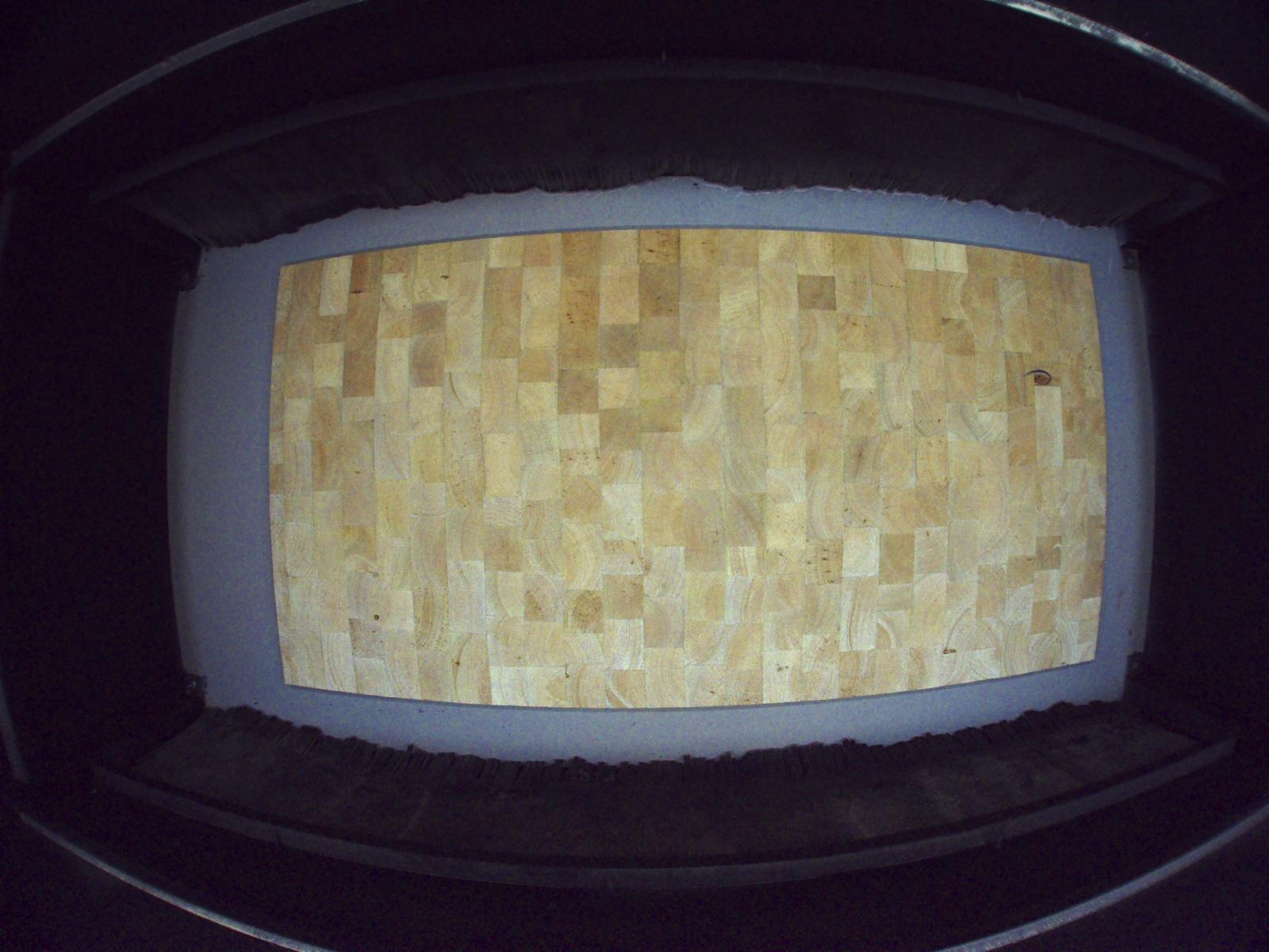nudillo: (1033, 374, 1052, 387)
sheck_ecuatoriano: (942, 607, 975, 655), (454, 633, 475, 693)
